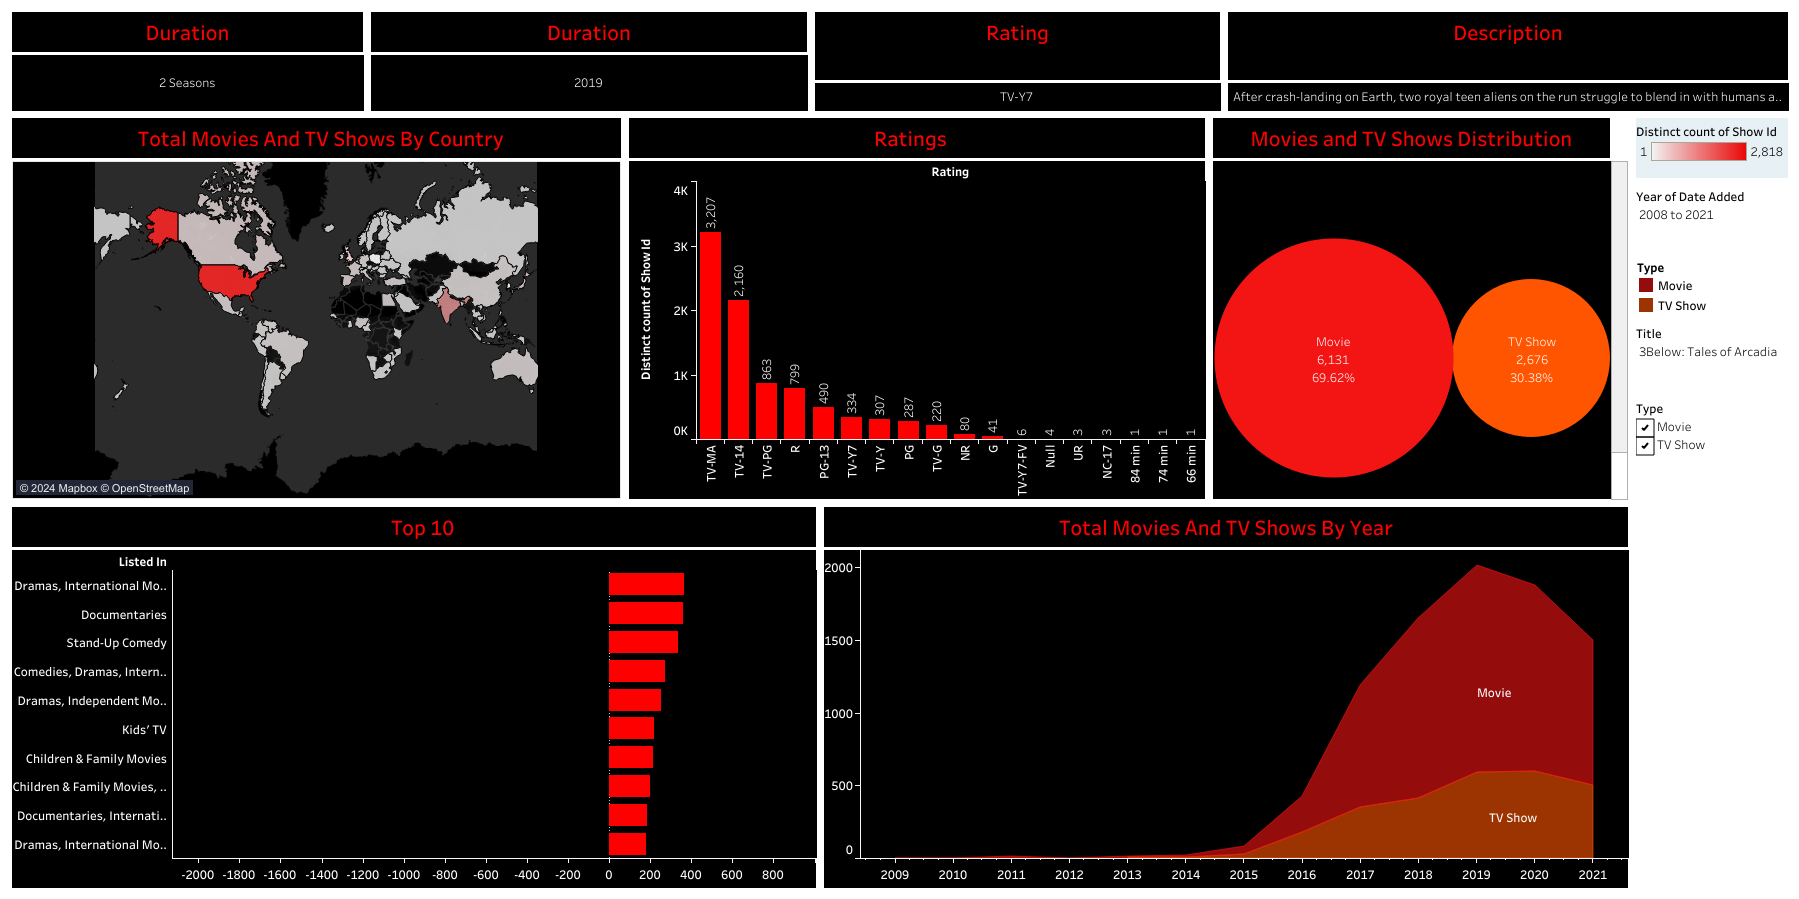

This screenshot's page, from the dashboard's own definition file:
{"tool":"tableau","page":{"name":"Dashboard 4","canvas":[1800,900],"ordinal":2},"visuals":[{"type":"worksheet","title":"duration","mark":"Automatic","box":[8,8,359,106]},{"type":"worksheet","title":"date added","mark":"Automatic","box":[367,8,444,106]},{"type":"worksheet","title":"rating","mark":"Automatic","box":[811,8,413,106]},{"type":"worksheet","title":"description","mark":"Automatic","box":[1224,8,568,106]},{"type":"worksheet","title":"  Total Movies And TV Shows By Year","mark":"Multipolygon","box":[8,114,617,389]},{"type":"worksheet","title":"Ratings.","mark":"Automatic","rows":["show_id"],"cols":["rating"],"box":[625,114,584,389]},{"type":"worksheet","title":"movies and tv shows distribution","mark":"Circle","box":[1209,114,423,389]},{"type":"legend","title":"  Total Movies And TV Shows By Year","param":"[federated.13gu4jb0uiukha1advpxv0x3fqcn].[ctd:show_id:qk]","box":[1632,114,160,65]},{"type":"filter","title":"Total Movies And Shows By Year.","param":"[federated.13gu4jb0uiukha1advpxv0x3fqcn].[tyr:date_added:qk]","box":[1632,179,160,69]},{"type":"legend","title":"Total Movies And Shows By Year.","param":"[federated.13gu4jb0uiukha1advpxv0x3fqcn].[none:type:nk]","box":[1632,248,160,66]},{"type":"filter","title":"description","param":"[federated.13gu4jb0uiukha1advpxv0x3fqcn].[none:title:nk]","box":[1632,314,160,70]},{"type":"filter","title":"description","param":"[federated.13gu4jb0uiukha1advpxv0x3fqcn].[none:type:nk]","box":[1632,384,160,89]},{"type":"worksheet","title":"Top 10.","mark":"Automatic","rows":["listed_in"],"cols":["show_id"],"box":[8,503,812,389]},{"type":"worksheet","title":"Total Movies And Shows By Year.","mark":"Area","rows":["show_id"],"cols":["date_added"],"box":[820,503,812,389]}]}

Visuals, with their boxes in screenshot pixels (x1, y1, x2, y2), scaled from the page's 1800x900 canvas onto the 1799x899 screenshot:
"duration" worksheet: l=8, t=8, r=367, b=114
"date added" worksheet: l=367, t=8, r=811, b=114
"rating" worksheet: l=811, t=8, r=1223, b=114
"description" worksheet: l=1223, t=8, r=1791, b=114
"  Total Movies And TV Shows By Year" worksheet (Multipolygon marks): l=8, t=114, r=625, b=502
"Ratings." worksheet: l=625, t=114, r=1208, b=502
"movies and tv shows distribution" worksheet (Circle marks): l=1208, t=114, r=1631, b=502
"  Total Movies And TV Shows By Year" legend: l=1631, t=114, r=1791, b=179
"Total Movies And Shows By Year." filter: l=1631, t=179, r=1791, b=248
"Total Movies And Shows By Year." legend: l=1631, t=248, r=1791, b=314
"description" filter: l=1631, t=314, r=1791, b=384
"description" filter: l=1631, t=384, r=1791, b=472
"Top 10." worksheet: l=8, t=502, r=820, b=891
"Total Movies And Shows By Year." worksheet (Area marks): l=820, t=502, r=1631, b=891
